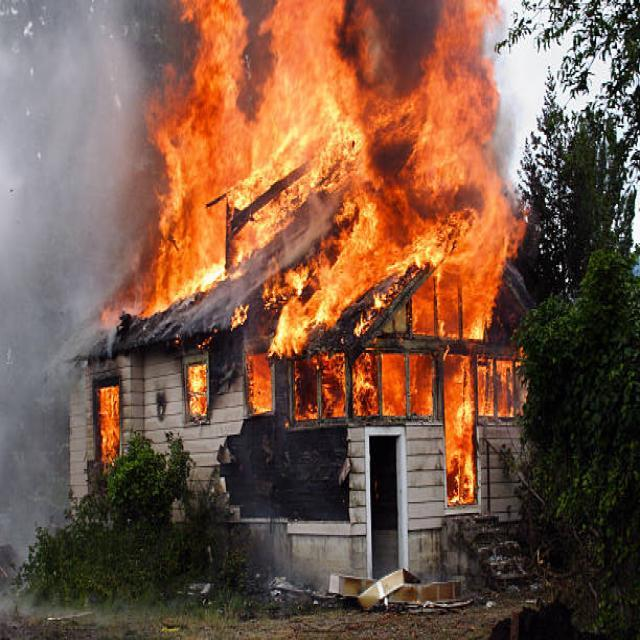Fire: (132, 0, 514, 358), (271, 330, 525, 430), (436, 354, 476, 514), (101, 382, 119, 450), (189, 368, 209, 425)
Smoke: (1, 4, 139, 471), (360, 0, 442, 116)
